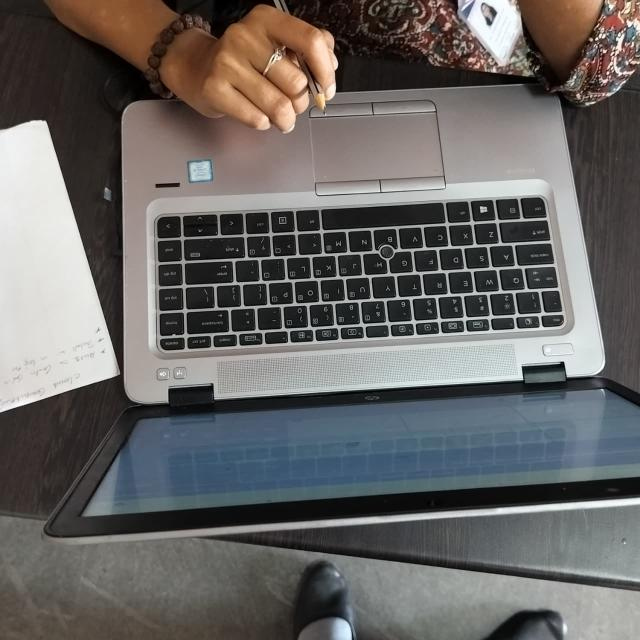laptop: (40, 94, 640, 560)
